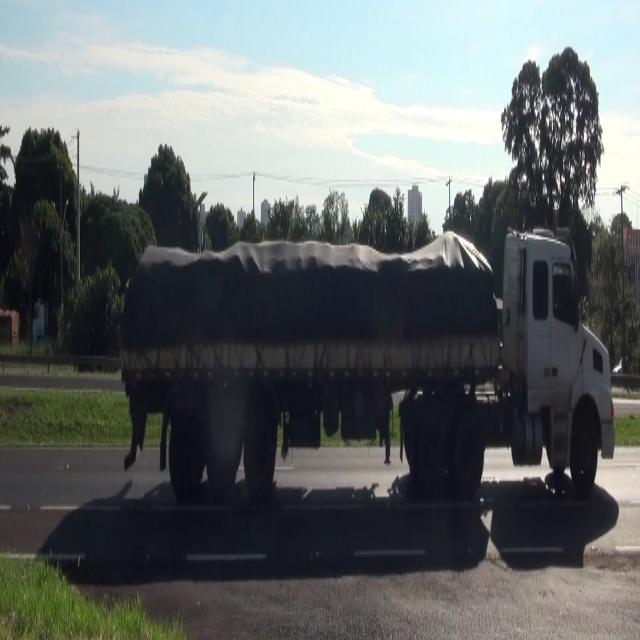-axle: (242, 408, 277, 502), (447, 415, 484, 491), (413, 413, 445, 491), (169, 416, 200, 495), (206, 412, 235, 494), (572, 423, 600, 497)
